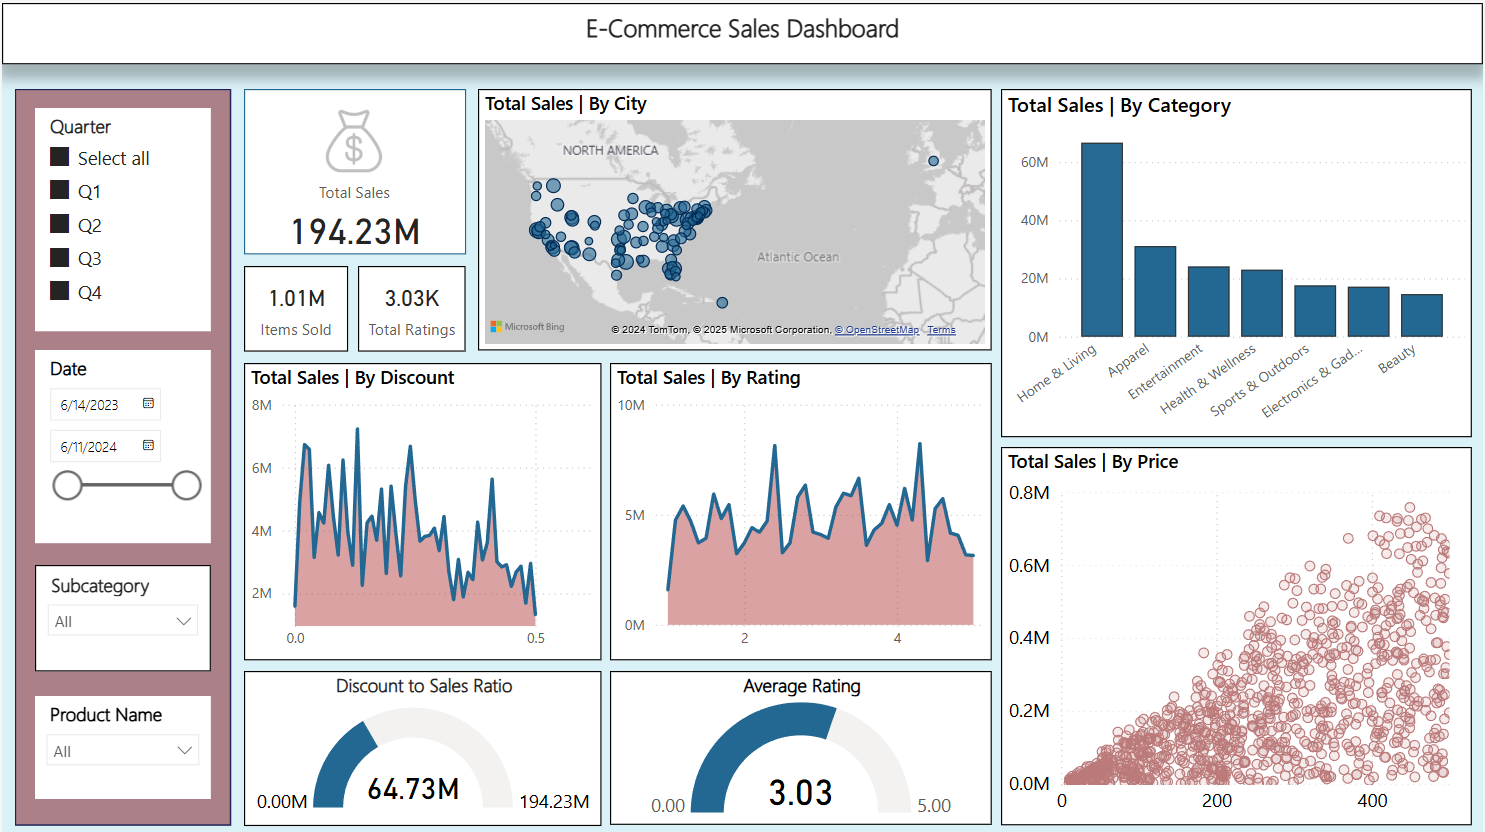

What the dashboard file says about the page in this screenshot:
{"tool":"powerbi","page":{"name":"Page 1","canvas":[1280,720],"ordinal":0},"visuals":[{"type":"shape","box":[10.8,74.7,186.6,636.6],"z":0},{"type":"cardVisual","fields":{"Data":["Sum(ecommerce_product_dataset.Total Sales)"]},"box":[209.2,74.7,191.6,143.4],"z":1000},{"type":"gauge","title":"Average Rating","fields":{"Y":["Avg(ecommerce_product_dataset.Rating)"],"MaxValue":["Max(ecommerce_product_dataset.Rating)"]},"box":[525.9,577.6,330.1,133.3],"z":2000},{"type":"gauge","title":"Discount to Sales Ratio","fields":{"Y":["Sum(ecommerce_product_dataset.TotalDiscountPerItem)"],"MaxValue":["Sum(ecommerce_product_dataset.Total Sales)"]},"box":[209.2,577.6,309.4,133.6],"z":3000},{"type":"columnChart","title":"Total Sales | By Category","fields":{"Category":["ecommerce_product_dataset.MainCategory"],"Y":["Sum(ecommerce_product_dataset.Total Sales)"]},"box":[863.3,74.4,407.2,301.1],"z":4000},{"type":"map","title":"Total Sales | By City","fields":{"Category":["ecommerce_product_dataset.City"],"Size":["Sum(ecommerce_product_dataset.TotalSales )"]},"box":[411.6,74.7,444,225.9],"z":5000},{"type":"scatterChart","title":"Total Sales | By Price ","fields":{"X":["ecommerce_product_dataset.Price"],"Y":["Sum(ecommerce_product_dataset.TotalSales )"]},"box":[863.5,384.1,406.7,327.1],"z":6000},{"type":"areaChart","title":"Total Sales | By Discount","fields":{"Category":["ecommerce_product_dataset.Discount"],"Y":["Sum(ecommerce_product_dataset.Total Sales)"]},"box":[209.2,311.4,309.4,257.4],"z":7000},{"type":"textbox","box":[0,0,1280.4,52.6],"z":8000},{"type":"card","fields":{"Values":["Sum(ecommerce_product_dataset.ItemsSold)"]},"box":[209.2,226.9,90.4,73.7],"z":10000},{"type":"card","fields":{"Values":["Sum(ecommerce_product_dataset.Rating)"]},"box":[307.5,226.9,93.3,73.7],"z":11000},{"type":"areaChart","title":"Total Sales | By Rating","fields":{"Y":["Sum(ecommerce_product_dataset.Total Sales)"],"Category":["ecommerce_product_dataset.Rating"]},"box":[525.6,311.4,330.1,257.4],"z":15000},{"type":"slicer","fields":{"Values":["ecommerce_product_dataset.Quarter"]},"box":[28.1,90.7,152.3,193.1],"z":16000},{"type":"slicer","fields":{"Values":["ecommerce_product_dataset.DateAdded"]},"box":[28.1,300.2,152.3,166.9],"z":16500},{"type":"slicer","title":"Total Sales | By Rating","fields":{"Values":["ecommerce_product_dataset.Category"]},"box":[28.1,486,152.3,91.6],"z":17000},{"type":"slicer","fields":{"Values":["ecommerce_product_dataset.ProductName"]},"box":[28.1,599.4,152.3,88.9],"z":17500}]}

Visuals, with their boxes in screenshot pixels (x1, y1, x2, y2), scaled from the page's 1280x720 canvas onto the 1485x832 screenshot:
shape: Rect(13, 86, 229, 822)
cardVisual - Sum(ecommerce_product_dataset.Total Sales): Rect(243, 86, 465, 252)
"Average Rating" gauge: Rect(610, 667, 993, 821)
"Discount to Sales Ratio" gauge: Rect(243, 667, 602, 822)
"Total Sales | By Category" columnChart: Rect(1002, 86, 1474, 434)
"Total Sales | By City" map: Rect(478, 86, 993, 347)
"Total Sales | By Price " scatterChart: Rect(1002, 444, 1474, 822)
"Total Sales | By Discount" areaChart: Rect(243, 360, 602, 657)
textbox: Rect(0, 0, 1484, 61)
card - Sum(ecommerce_product_dataset.ItemsSold): Rect(243, 262, 348, 347)
card - Sum(ecommerce_product_dataset.Rating): Rect(357, 262, 465, 347)
"Total Sales | By Rating" areaChart: Rect(610, 360, 993, 657)
slicer - ecommerce_product_dataset.Quarter: Rect(33, 105, 209, 328)
slicer - ecommerce_product_dataset.DateAdded: Rect(33, 347, 209, 540)
"Total Sales | By Rating" slicer: Rect(33, 562, 209, 667)
slicer - ecommerce_product_dataset.ProductName: Rect(33, 693, 209, 795)
